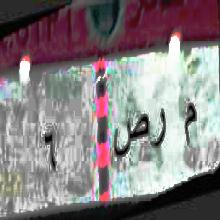6: (42, 120, 58, 177)
meem: (182, 98, 196, 156)
raa: (150, 98, 171, 160)
saad: (113, 108, 150, 164)
